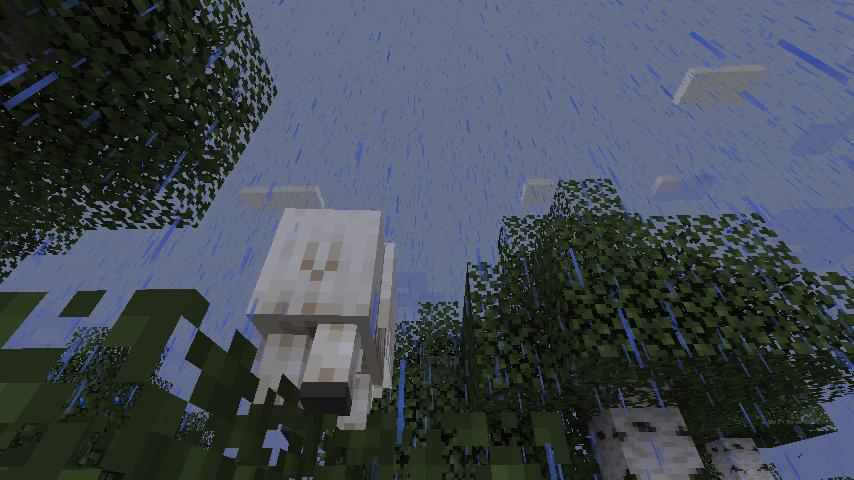goat: (248, 203, 403, 437)
